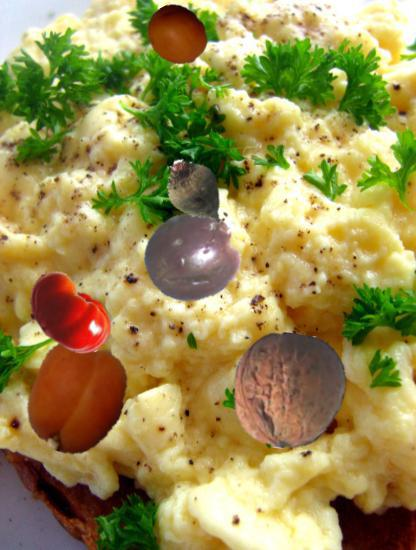Apricot: (22, 343, 135, 456), (146, 3, 209, 66)
Beetroot: (155, 152, 235, 232)
Passion: (144, 208, 243, 307)
Tomato: (22, 266, 117, 361)
Walnut: (231, 333, 348, 450)
